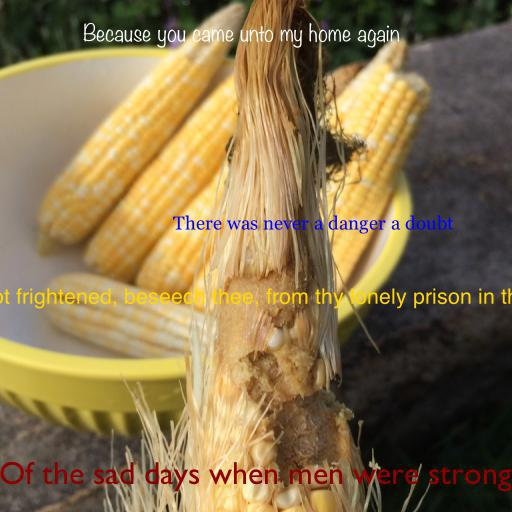Georgia: (173, 215, 453, 234)
Gill Sans: (0, 461, 512, 492)
Impact: (0, 288, 512, 309)
Noteworthy: (82, 22, 400, 48)
